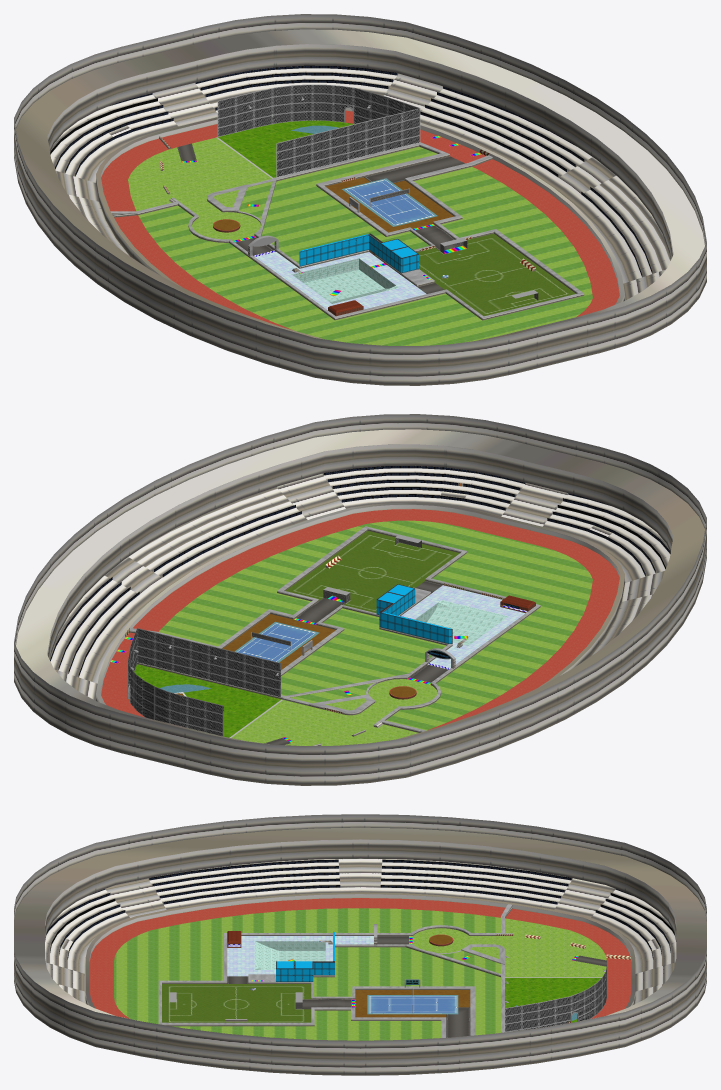
3 views of the same model, one above another, from view 1: azimuth 30°, elevation 25°; view 2: azimuth 150°, elevation 25°; view 3: azimuth 270°, elevation 25° (orthographic). The views are drawn at different scales.
Parts seen in each view (by area): view 1: model-SKP--wall.013, model-SKP--wall.021, model-SKP--wall.022, model-SKP--wall.006, model-SKP--wall.030, model-SKP--wall.011, model-SKP--wall.015, model-SKP--wall.004, model-SKP--wall.026, model-SKP--wall.012, model-SKP--wall.010, model-SKP--wall.007 (+3 smaller); view 2: model-SKP--wall.013, model-SKP--wall.021, model-SKP--wall.006, model-SKP--wall.022, model-SKP--wall.030, model-SKP--wall.015, model-SKP--wall.011, model-SKP--wall.004, model-SKP--wall.010, model-SKP--wall.026, model-SKP--wall.007, model-SKP--wall.012 (+3 smaller); view 3: model-SKP--wall.013, model-SKP--wall.021, model-SKP--wall.006, model-SKP--wall.015, model-SKP--wall.030, model-SKP--wall.011, model-SKP--wall.004, model-SKP--wall.022, model-SKP--wall.026, model-SKP--wall.010, model-SKP--wall.025, model-SKP--wall.009 (+3 smaller).
Boxes of the visible parts, x1,y1,x2,y2 form: model-SKP--wall.013: (14, 14, 706, 385); model-SKP--wall.021: (138, 146, 592, 345); model-SKP--wall.022: (217, 84, 420, 177); model-SKP--wall.006: (101, 110, 619, 329); model-SKP--wall.030: (128, 137, 271, 240); model-SKP--wall.011: (417, 233, 575, 316); model-SKP--wall.015: (50, 65, 652, 276); model-SKP--wall.004: (110, 97, 583, 318); model-SKP--wall.026: (255, 252, 426, 309); model-SKP--wall.012: (292, 258, 398, 303); model-SKP--wall.010: (218, 120, 354, 177); model-SKP--wall.007: (299, 233, 418, 273); model-SKP--wall.013: (14, 414, 706, 785); model-SKP--wall.021: (159, 520, 592, 730); model-SKP--wall.006: (101, 509, 619, 730); model-SKP--wall.022: (128, 628, 280, 736); model-SKP--wall.030: (231, 679, 437, 745); model-SKP--wall.015: (50, 466, 670, 676); model-SKP--wall.011: (285, 530, 459, 613); model-SKP--wall.004: (127, 526, 540, 731); model-SKP--wall.010: (128, 664, 281, 737); model-SKP--wall.026: (401, 585, 525, 667); model-SKP--wall.007: (376, 584, 452, 643); model-SKP--wall.012: (415, 600, 507, 645); model-SKP--wall.013: (14, 814, 706, 1075); model-SKP--wall.021: (114, 908, 500, 1040); model-SKP--wall.006: (89, 898, 631, 1018); model-SKP--wall.015: (46, 859, 674, 959); model-SKP--wall.030: (413, 918, 606, 977); model-SKP--wall.011: (162, 984, 311, 1022); model-SKP--wall.004: (158, 904, 605, 1037); model-SKP--wall.022: (505, 966, 606, 1032); model-SKP--wall.026: (227, 936, 373, 976); model-SKP--wall.010: (505, 978, 600, 1022); model-SKP--wall.025: (367, 995, 458, 1014); model-SKP--wall.009: (227, 936, 606, 1037).
Size of the model in its own units: 86123 by 10911 by 111330.
Materials: 32 (32 with a texture image).
